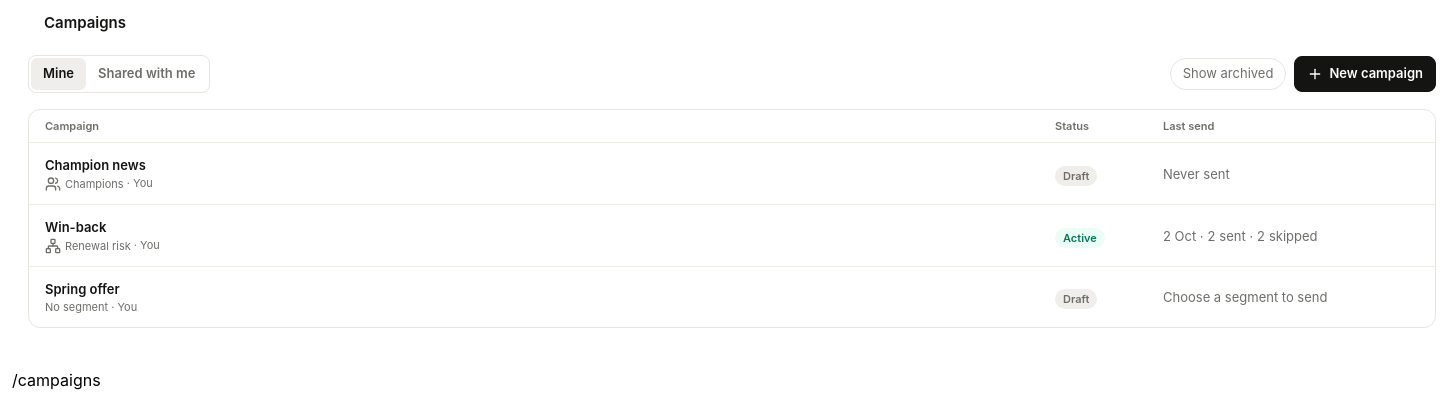
/campaigns (spec §2.1) › lists what teammates shared under Shared with me, with their names, in the URL
Click the button "Shared with me" at (147, 74), box [86, 58, 207, 90]
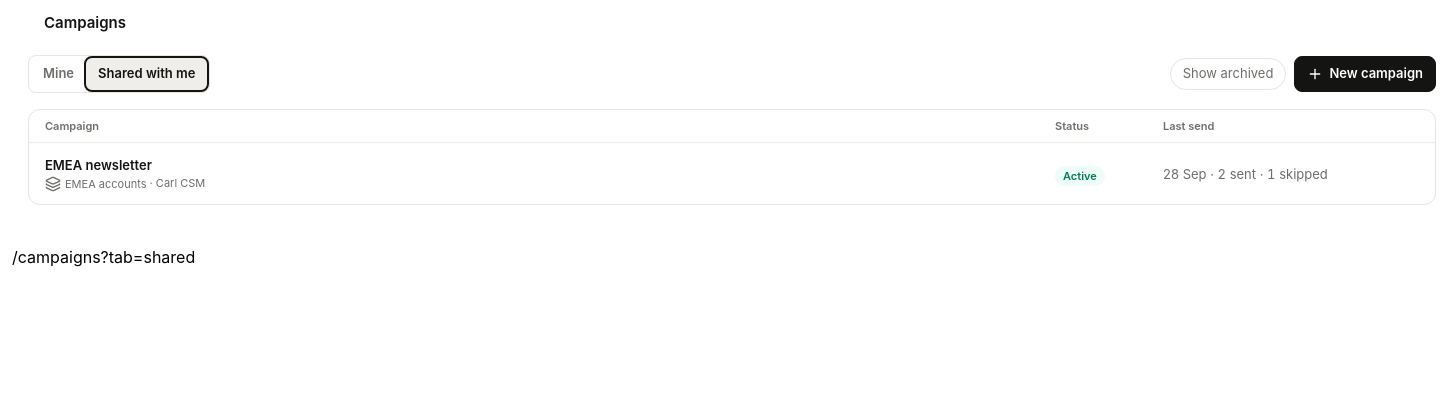
Now the text with test id "where" reads "/campaigns?tab=shared", box [12, 247, 195, 267]
Now the list item shows "Carl CSM", box [156, 176, 205, 190]
Now the list item shows "EMEA accounts", box [65, 177, 146, 191]
